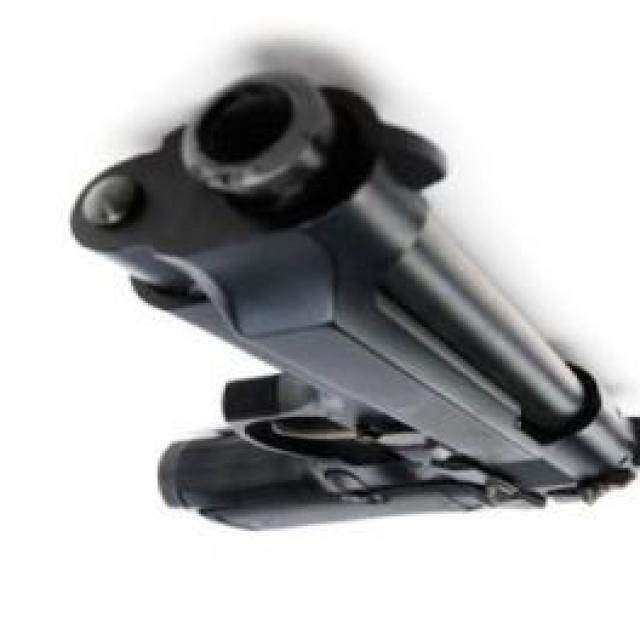pistol: (44, 73, 640, 536)
